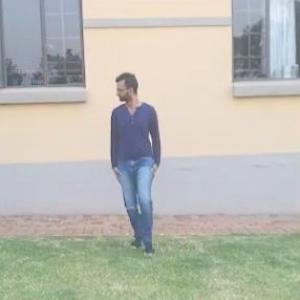follow: (100, 62, 162, 282)
